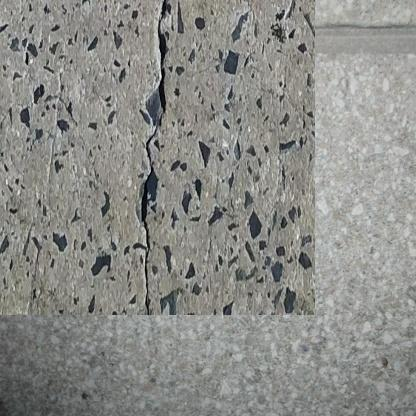Cracks: (127, 0, 159, 291)
